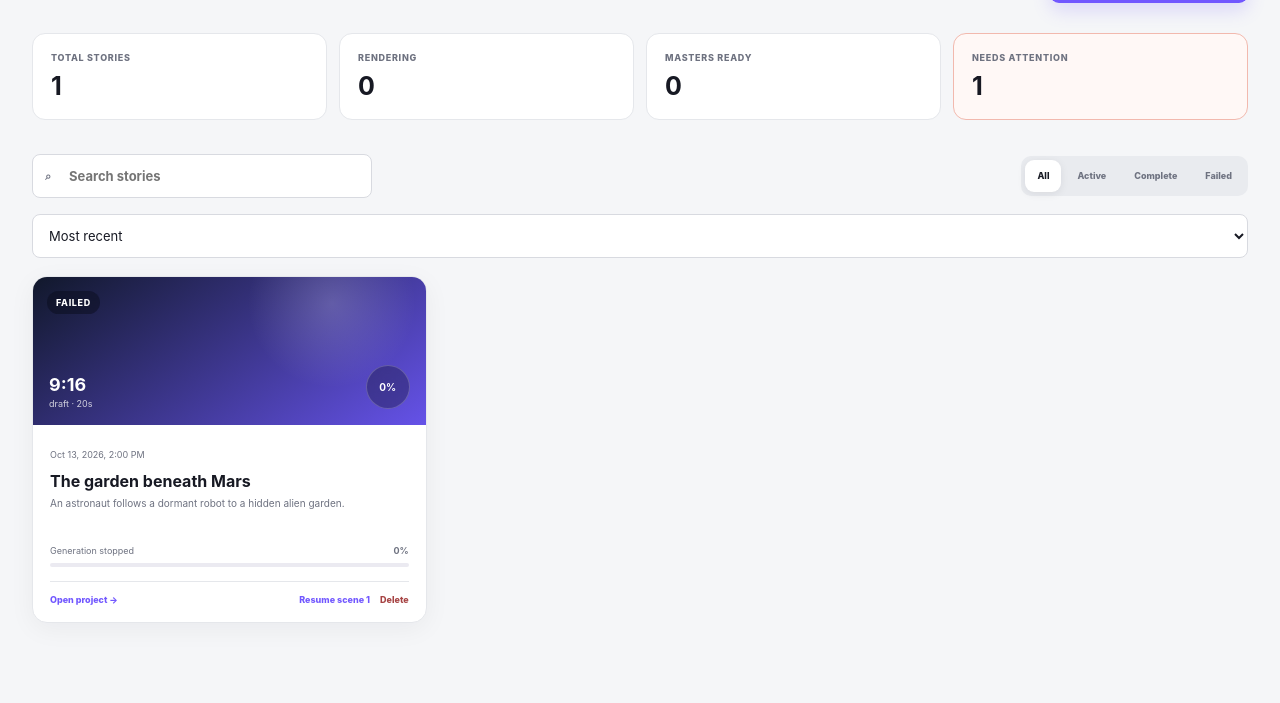
Scenario: AI scene video library › lists and resumes a failed story project
The image size is (1280, 703).
(page scrolled)
Expected: the heading "The garden beneath Mars" is shown, x1=50 y1=471 x2=251 y2=491
Expected: the text "1" below "Needs attention" is shown, x1=972 y1=71 x2=983 y2=101
Click the button "Resume scene 1" at (335, 600), box x1=299 y1=594 x2=370 y2=605
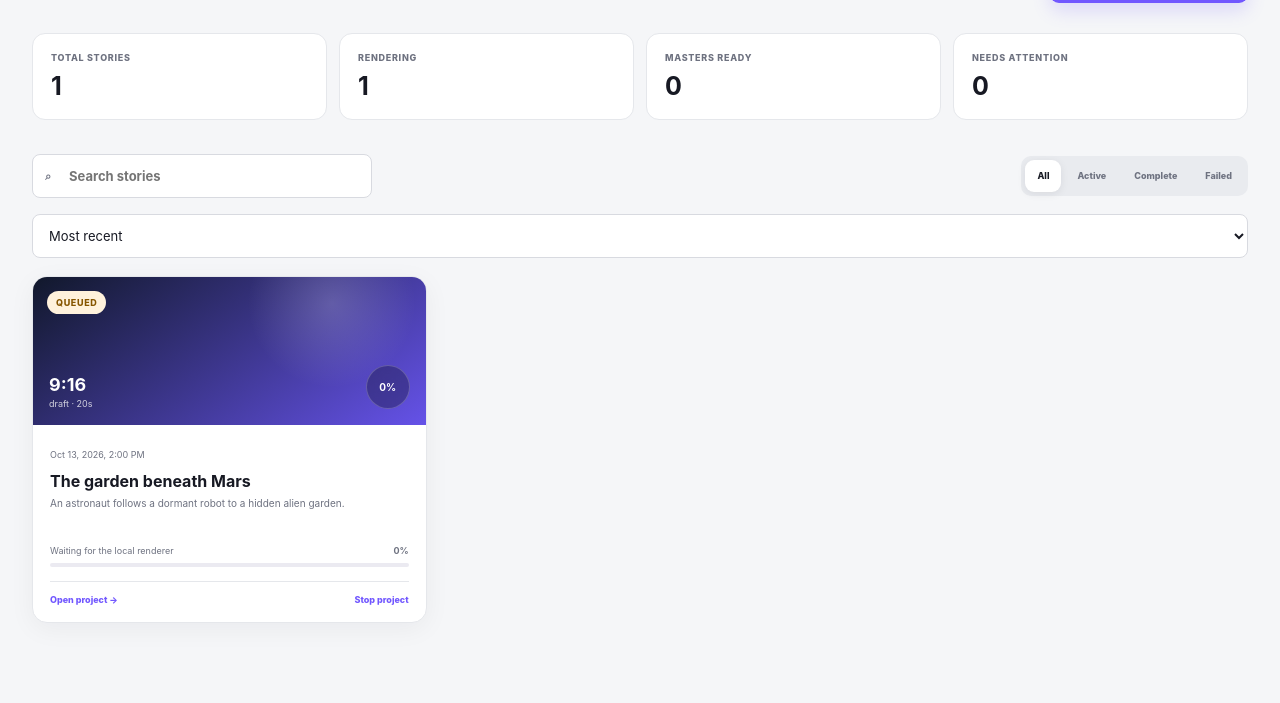
Expected: the text "Waiting for the local renderer" is shown, x1=50 y1=545 x2=174 y2=556
